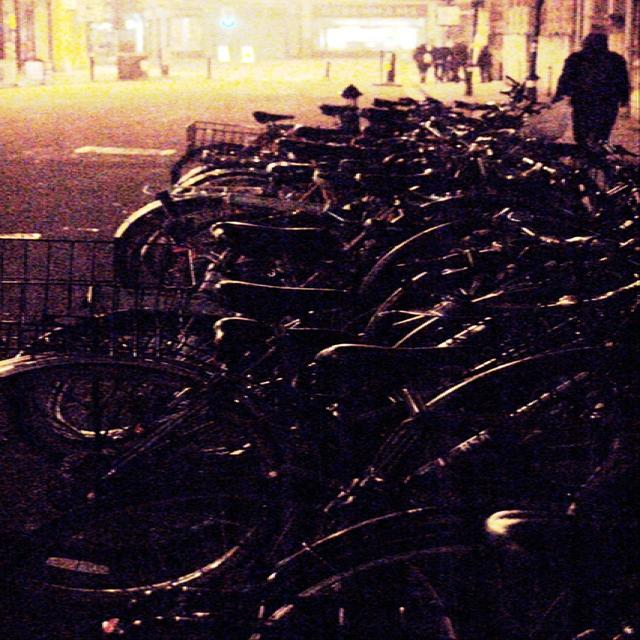Bicycle: (0, 270, 640, 557), (17, 153, 640, 381), (32, 461, 640, 640), (165, 55, 572, 263)
